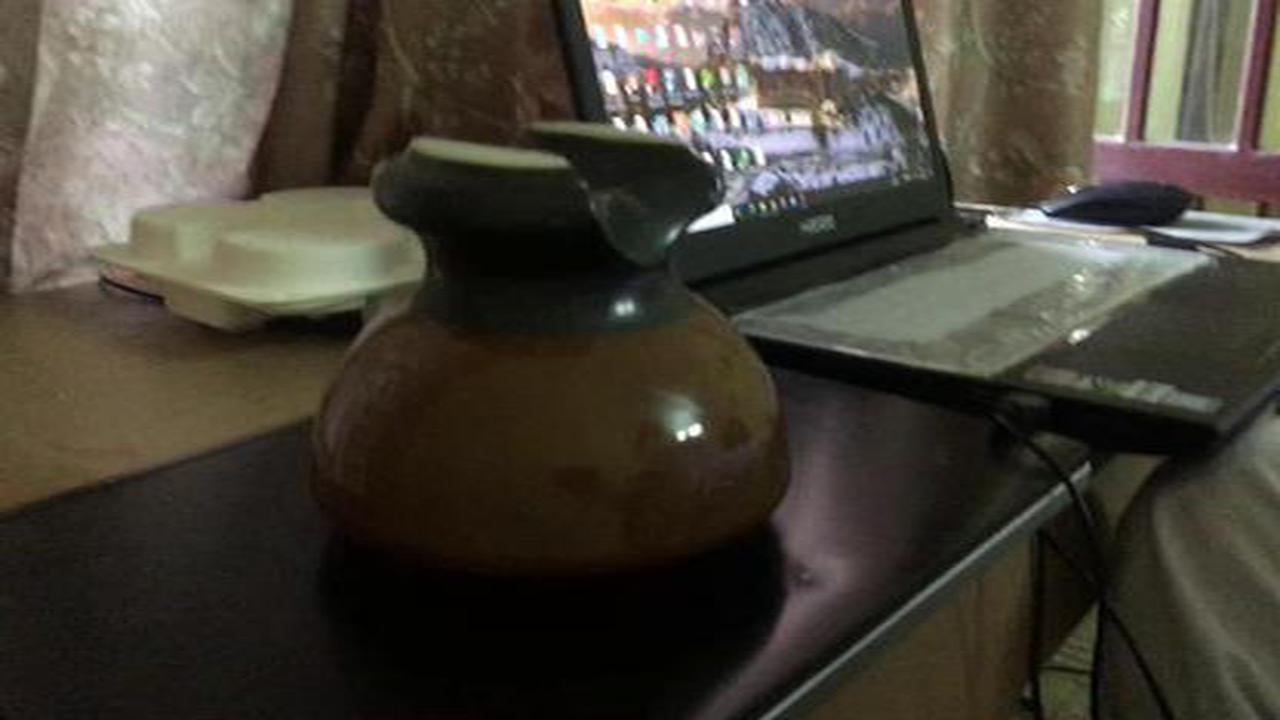insulator_pin: (284, 109, 813, 589)
